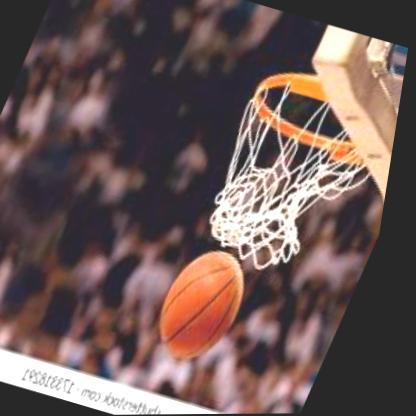basketball: (153, 243, 270, 369)
rim: (234, 56, 409, 172)
